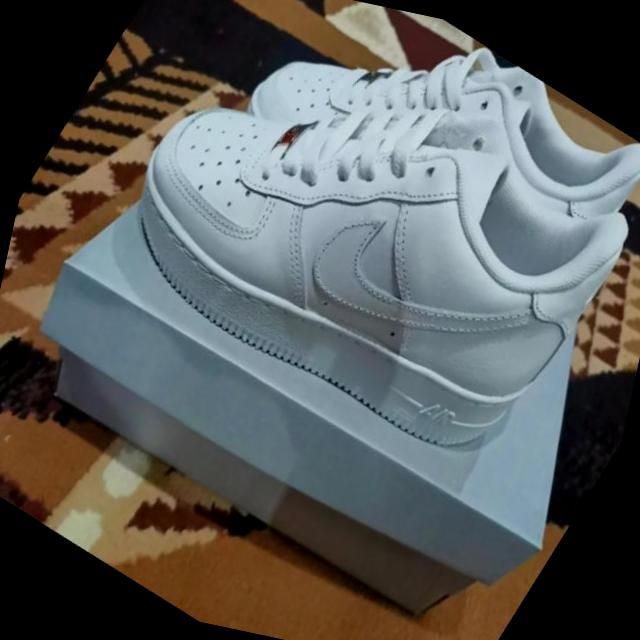nike_fake_airforce: (31, 0, 640, 524)
